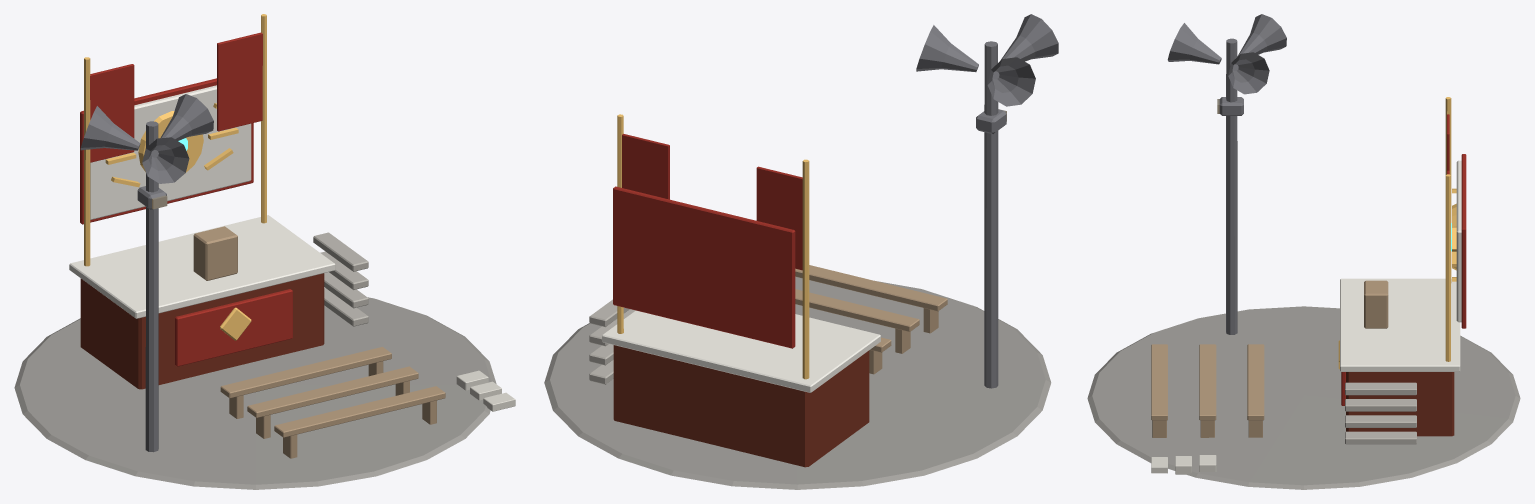
The model's file is bld_agitpunkt.glb.
3 renders of one model, left to right at view 1: azimuth 30°, elevation 25°; view 2: azimuth 150°, elevation 25°; view 3: azimuth 270°, elevation 25°, orthographic. The views are drawn at different scales.
Parts seen in each view (by area): view 1: agitpunkt; view 2: agitpunkt; view 3: agitpunkt.
Part boxes in pixels (x1=…): agitpunkt: x1=14, y1=14, x2=515, y2=489; agitpunkt: x1=544, y1=14, x2=1058, y2=489; agitpunkt: x1=1087, y1=14, x2=1520, y2=489.
Size of the model in its own units: 1.8 by 1.4 by 1.8.
